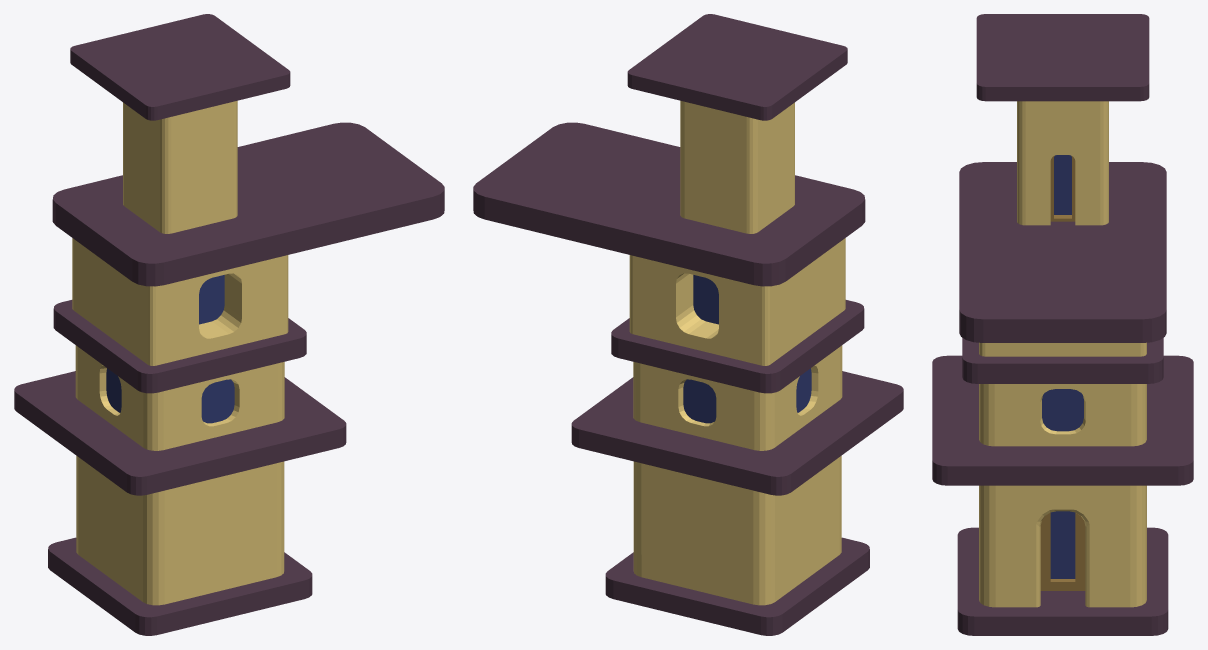
The model's file is MMMBuilding.fbx.
3 renders of one model, left to right at view 1: azimuth 30°, elevation 25°; view 2: azimuth 150°, elevation 25°; view 3: azimuth 270°, elevation 25°, orthographic. The views are drawn at different scales.
Parts seen in each view (by area): view 1: MMMBuilding; view 2: MMMBuilding; view 3: MMMBuilding.
Boxes of the visible parts, x1,y1,x2,y2 form: MMMBuilding: (14,14,444,635); MMMBuilding: (473,14,903,635); MMMBuilding: (932,14,1193,635).
Size of the model in its own units: 8.02 by 11.99 by 5.25.
